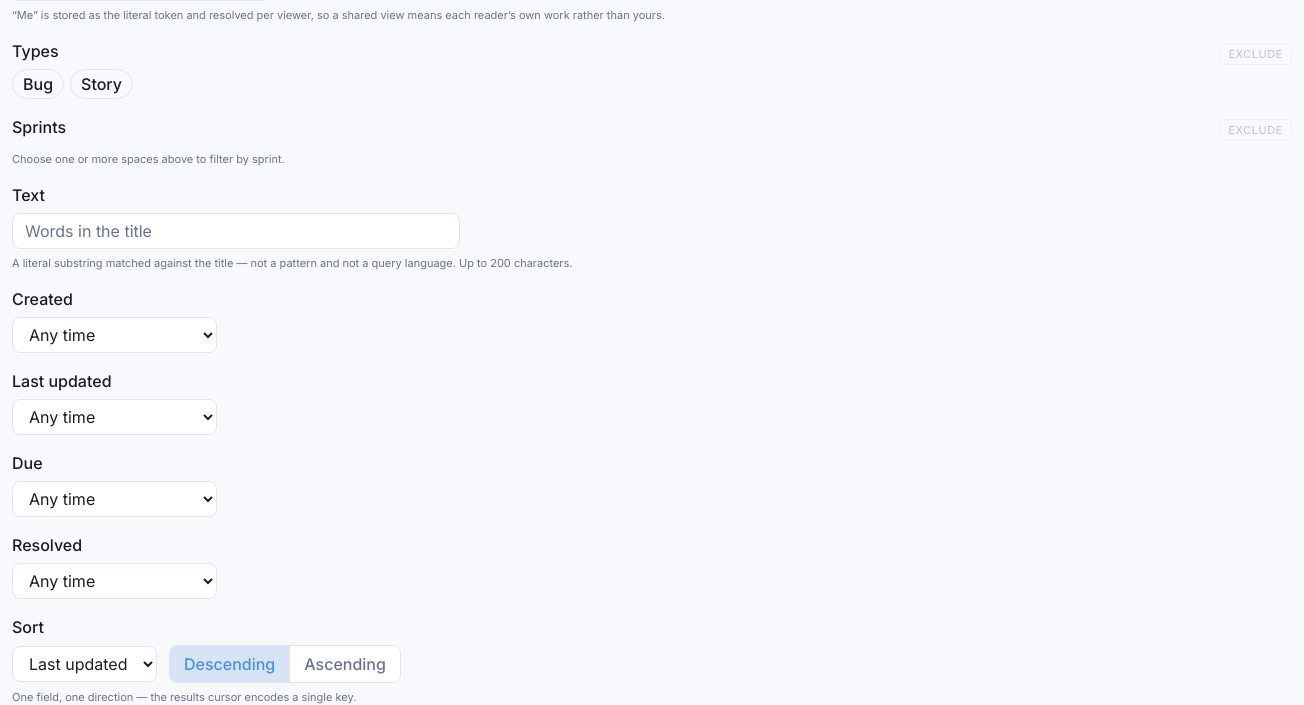
Test: QueryFilterBuilder — v2 date ranges › reveals two instant pickers only for a custom range
(page scrolled)
Select "Between two dates…" in the dropdown with test id "view-date-due_at" at coordinates (114, 499), box [12, 481, 217, 517]
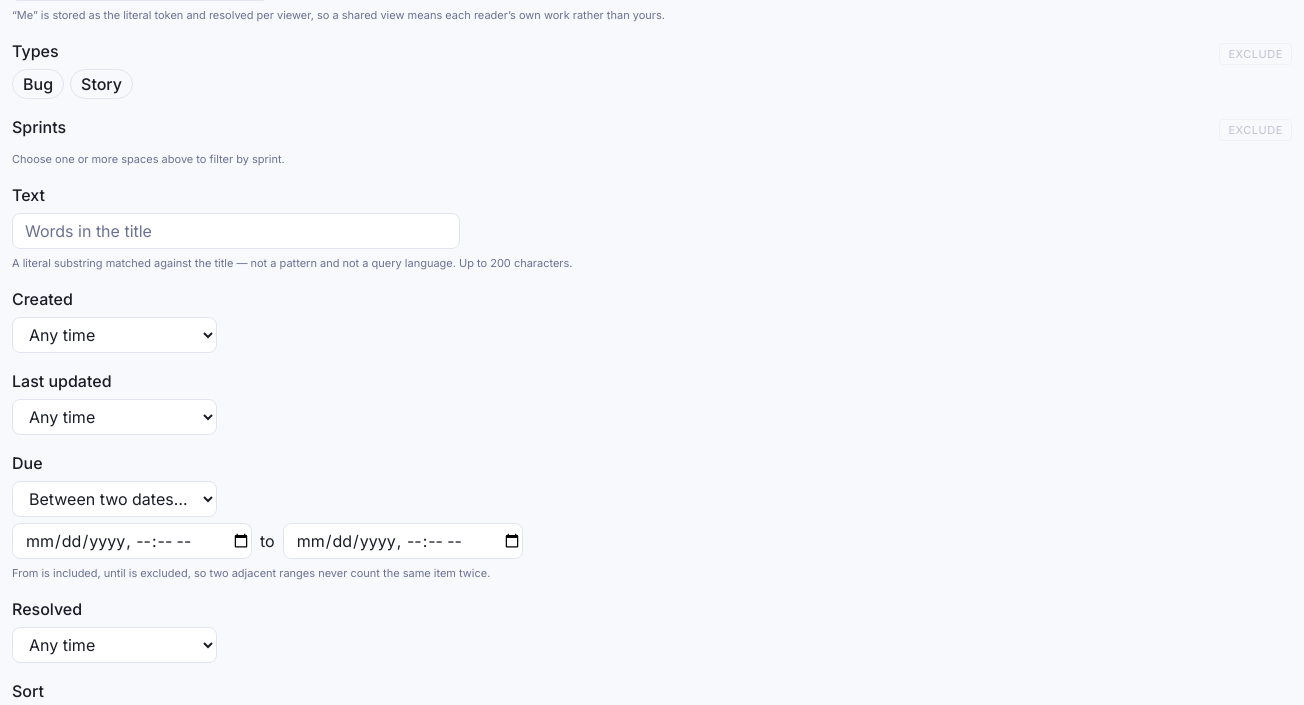
expect the field with test id "view-date-due_at-after" is shown: met, box [12, 523, 252, 559]
expect the field with test id "view-date-due_at-before" is shown: met, box [283, 523, 523, 559]
